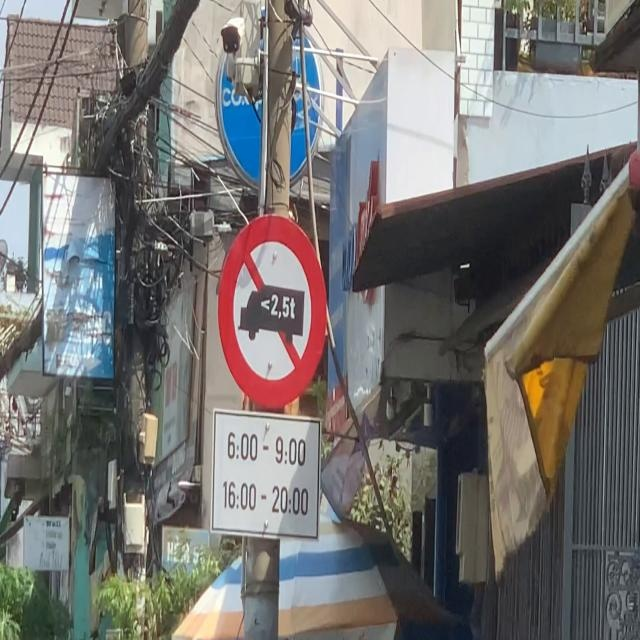bien_cam: (218, 212, 328, 408)
